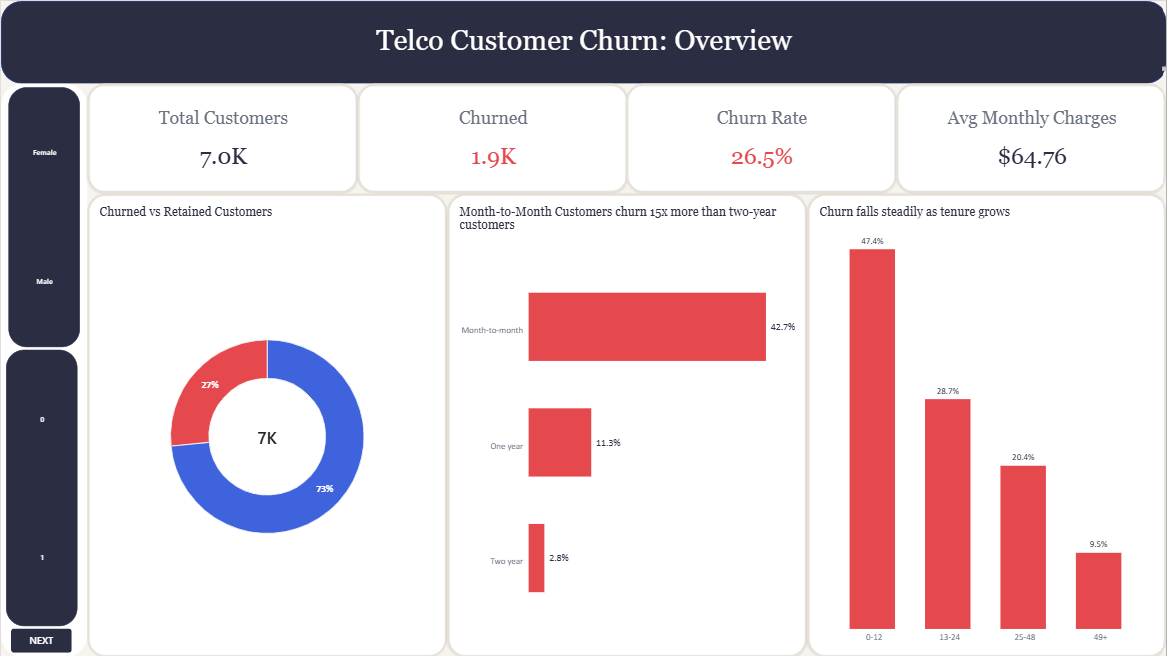

What the dashboard file says about the page in this screenshot:
{"tool":"powerbi","page":{"name":"Overview","canvas":[1920,1080],"ordinal":0},"visuals":[{"type":"shape","box":[0,0,1920.4,135.8],"z":0},{"type":"textbox","title":"Telco Customer Churn: Overview","box":[0,39.1,1920,76.2],"z":1000},{"type":"shape","box":[0,135.2,142,944.8],"z":2000},{"type":"slicer","fields":{"Values":["telco_churn.gender"]},"box":[12.3,142,117.3,428.1],"z":3000},{"type":"slicer","fields":{"Values":["telco_churn.SeniorCitizen"]},"box":[8.2,574.3,117.3,454.9],"z":4000},{"type":"actionButton","box":[16.5,1033.3,100,40],"z":5000},{"type":"cardVisual","fields":{"Data":["telco_churn.Total Customers"]},"box":[142,135.8,446.7,181.1],"z":6000},{"type":"cardVisual","fields":{"Data":["telco_churn.Churned"]},"box":[585.9,135.8,446.7,181.1],"z":7000},{"type":"cardVisual","fields":{"Data":["telco_churn.Churn Rate"]},"box":[1029.8,135.8,446.7,181.1],"z":8000},{"type":"cardVisual","fields":{"Data":["telco_churn.Avg Monthly Charges"]},"box":[1473.3,135.8,446.7,181.1],"z":9000},{"type":"donutChart","title":"Churned vs Retained Customers","fields":{"Category":["telco_churn.Churn"],"Y":["telco_churn.Total Customers"]},"box":[142,316.4,592.8,763.6],"z":10000},{"type":"clusteredBarChart","title":"Month-to-Month Customers churn 15x  more than two-year customers","fields":{"Category":["telco_churn.Contract"],"Y":["telco_churn.Churn Rate"]},"box":[734.8,317,592.8,763.6],"z":11000},{"type":"clusteredColumnChart","title":"Churn falls steadily as tenure grows","fields":{"Category":["telco_churn.Tenure Group"],"Y":["telco_churn.Churn Rate"]},"box":[1327.6,317,592.8,763.6],"z":12000}]}

Visuals, with their boxes in screenshot pixels (x1, y1, x2, y2), scaled from the page's 1920x1080 canvas onto the 1167x656 screenshot:
shape: rect(0, 0, 1166, 82)
"Telco Customer Churn: Overview" textbox: rect(0, 24, 1166, 70)
shape: rect(0, 82, 86, 655)
slicer - telco_churn.gender: rect(7, 86, 79, 346)
slicer - telco_churn.SeniorCitizen: rect(5, 349, 76, 625)
actionButton: rect(10, 628, 71, 652)
cardVisual - telco_churn.Total Customers: rect(86, 82, 358, 192)
cardVisual - telco_churn.Churned: rect(356, 82, 628, 192)
cardVisual - telco_churn.Churn Rate: rect(626, 82, 897, 192)
cardVisual - telco_churn.Avg Monthly Charges: rect(895, 82, 1166, 192)
"Churned vs Retained Customers" donutChart: rect(86, 192, 447, 655)
"Month-to-Month Customers churn 15x  more than two-year customers" clusteredBarChart: rect(447, 193, 807, 655)
"Churn falls steadily as tenure grows" clusteredColumnChart: rect(807, 193, 1166, 655)
